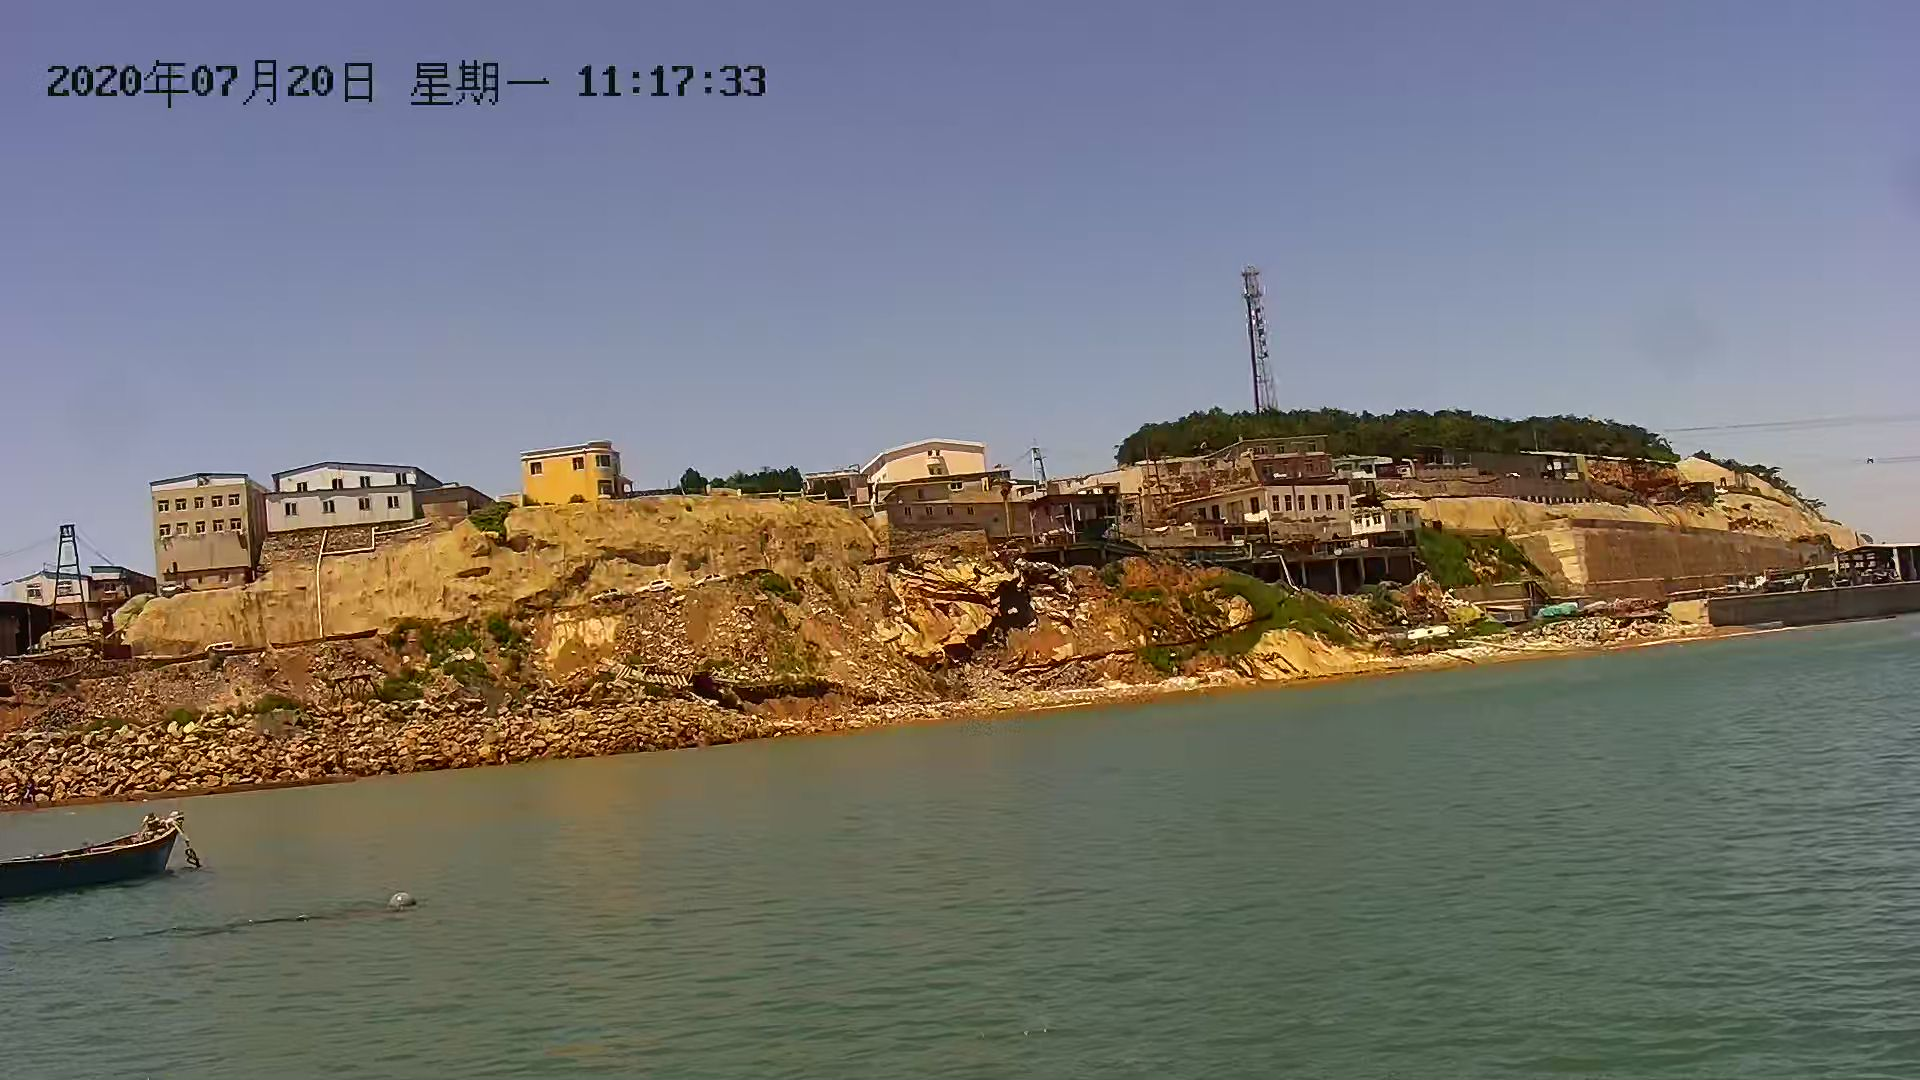ball: (378, 891, 419, 914)
boat: (1, 807, 193, 897)
